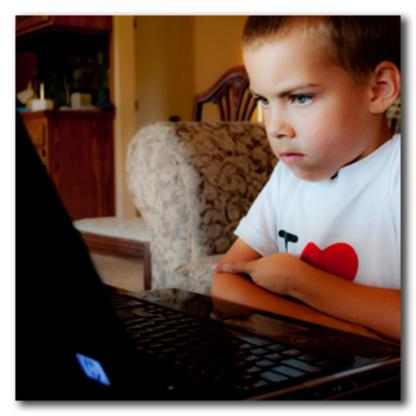board: (14, 112, 402, 400)
